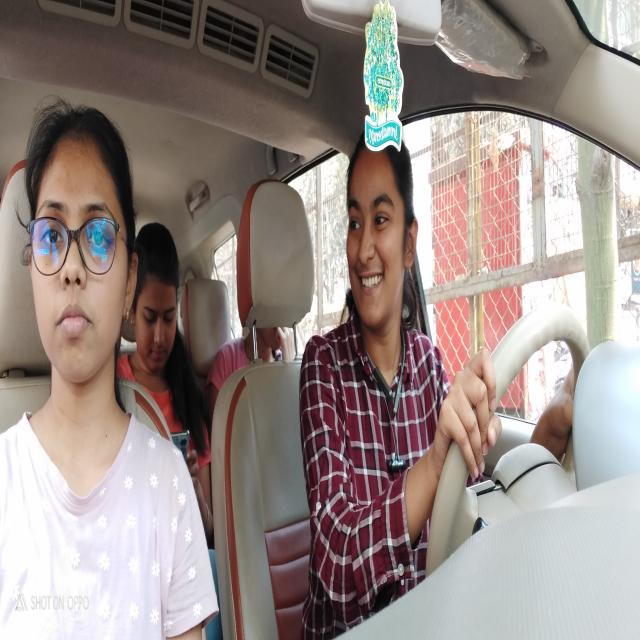LeftRight: (346, 128, 419, 337)
person: (23, 96, 136, 402), (138, 216, 185, 384)
